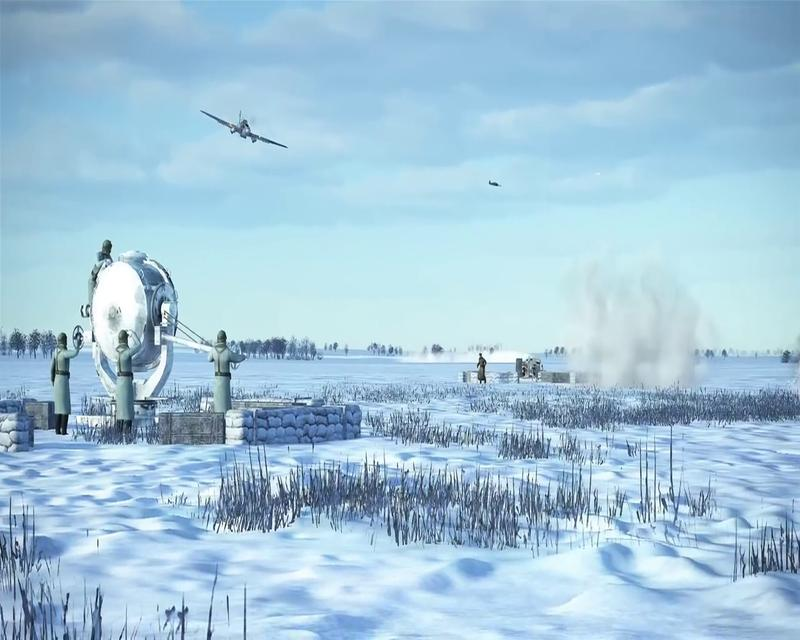UAV: (198, 108, 288, 148)
